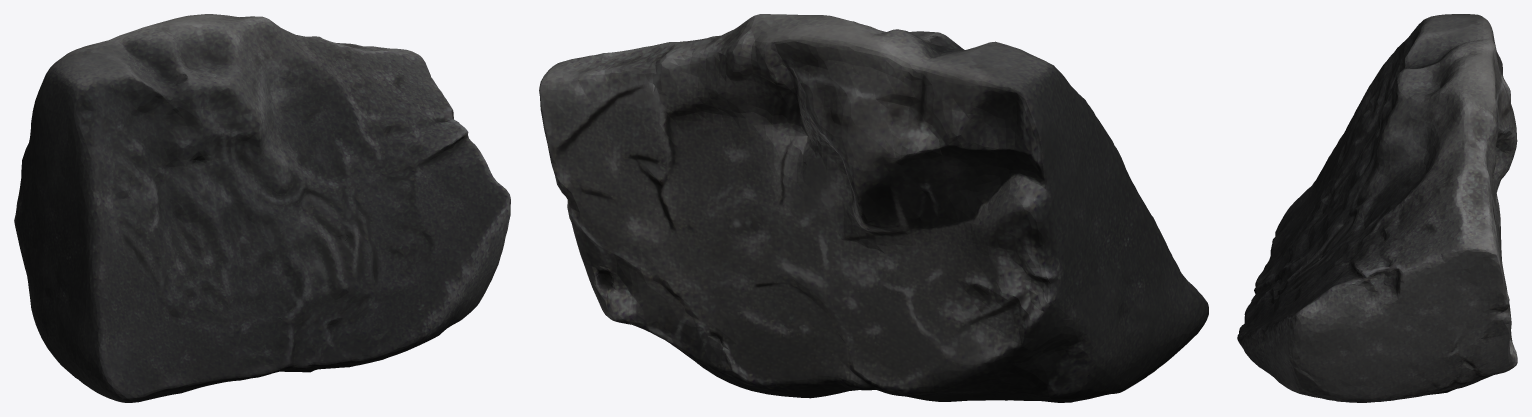
File: rock.glb
3 views of the same model, side by side, from view 1: azimuth 30°, elevation 25°; view 2: azimuth 150°, elevation 25°; view 3: azimuth 270°, elevation 25° (orthographic). The views are drawn at different scales.
Parts seen in each view (by area): view 1: world; view 2: world; view 3: world.
Boxes of the visible parts, box(x1,y1,x2,y2) form: world: box(14, 14, 510, 402); world: box(539, 14, 1208, 402); world: box(1237, 14, 1517, 402).
Bounding box in the file's own units: 0.9958 × 0.6802 × 0.6321.
1 material, 1 textured.
